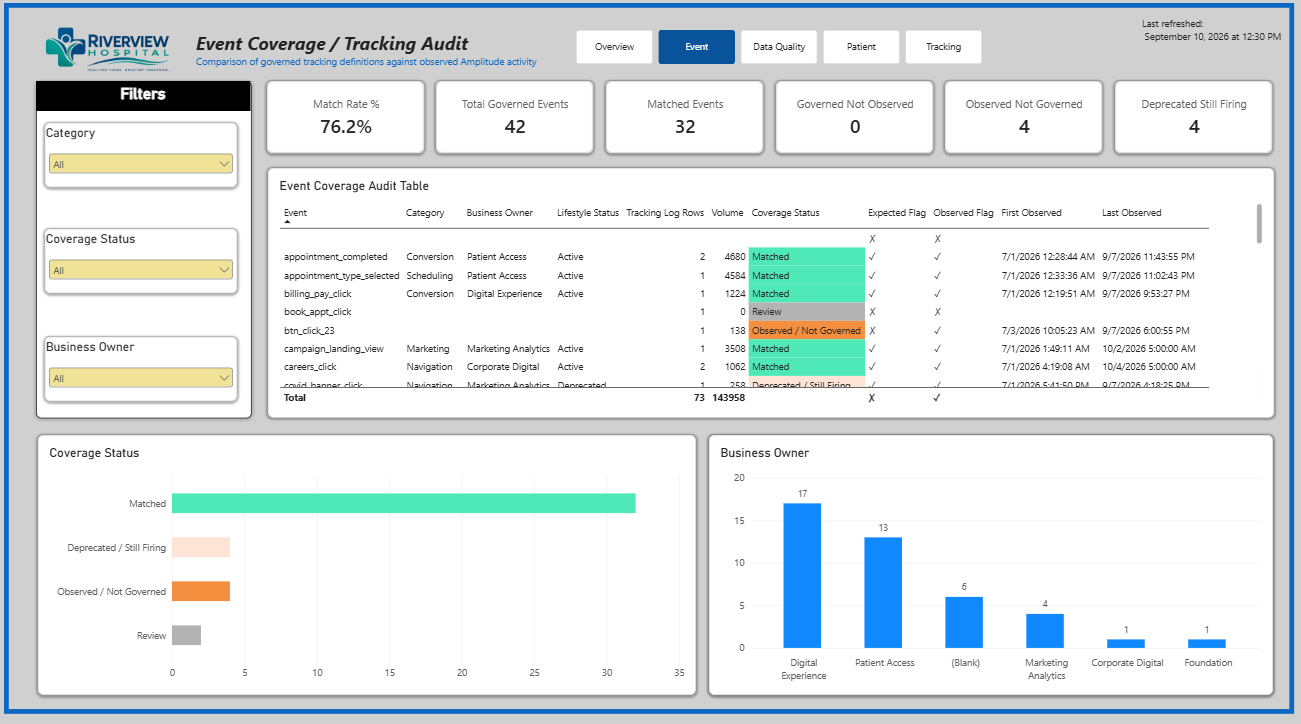

Layout of this report page (visuals, bound fields, positions):
{"tool":"powerbi","page":{"name":"Event","canvas":[1920,1080],"ordinal":1},"visuals":[{"type":"shape","box":[12.1,12.1,1896.7,1045],"z":0},{"type":"textbox","box":[294.4,51.3,502.7,62.8],"z":2000},{"type":"cardVisual","title":"Governed Claim %","fields":{"Data":["reporting vw_EventCoverage.Coverage Match %"]},"box":[398,126,231,106],"z":3000},{"type":"cardVisual","title":"Governed Claim %","fields":{"Data":["reporting vw_EventCoverage.Total Governed Events"]},"box":[647.4,126,231,106],"z":4000},{"type":"cardVisual","title":"Governed Claim %","fields":{"Data":["reporting vw_EventCoverage.Matched Events"]},"box":[896.8,126,231,106],"z":5000},{"type":"cardVisual","title":"Governed Claim %","fields":{"Data":["reporting vw_EventCoverage.Governed Not Observed"]},"box":[1146.2,126,231,106],"z":6000},{"type":"cardVisual","title":"Governed Claim %","fields":{"Data":["reporting vw_EventCoverage.Observed Not Governed"]},"box":[1395.6,126,231,106],"z":7000},{"type":"cardVisual","title":"Governed Claim %","fields":{"Data":["reporting vw_EventCoverage.Deprecated Still Firing"]},"box":[1645,126,231,106],"z":8000},{"type":"clusteredBarChart","title":"Coverage Status","fields":{"Category":["reporting vw_EventCoverage.Coverage_Status"],"Y":["CountNonNull(reporting vw_EventCoverage.Event_Name)"]},"box":[61.2,646.6,967.4,382],"z":9000},{"type":"tableEx","title":"Event Coverage Audit Table","fields":{"Values":["reporting vw_EventCoverage.Event_Name","reporting vw_EventCoverage.Event_Category","reporting vw_EventCoverage.Business_Owner","reporting vw_EventCoverage.Lifecycle_Status","Sum(reporting vw_EventCoverage.Tracking_Log_Rows)","Sum(reporting vw_EventCoverage.Observed_Event_Count)","reporting vw_EventCoverage.Coverage_Status","reporting vw_EventCoverage.Expected Flag","reporting vw_EventCoverage.Observed Flag","reporting vw_EventCoverage.First_Observed","reporting vw_EventCoverage.Last_Observed"]},"box":[399.2,254.8,1478.6,367.1],"z":10000},{"type":"clusteredColumnChart","title":"Business Owner","fields":{"Category":["reporting vw_EventCoverage.Business_Owner"],"Y":["CountNonNull(reporting vw_EventCoverage.Event_Name)"]},"box":[1048.5,646.6,828.5,382],"z":11000},{"type":"image","box":[35,11.7,255,133.3],"z":12000},{"type":"pageNavigator","box":[852.3,51.9,600,50],"z":13000},{"type":"textbox","box":[1684.4,32.7,210.6,61.7],"z":14000},{"type":"slicer","title":"Coverage Status","fields":{"Values":["reporting vw_EventCoverage.Coverage_Status"]},"box":[114.4,186.6,208.4,94.3],"z":16000},{"type":"textbox","box":[58.2,126.4,317,495.5],"z":17000},{"type":"textbox","title":"Filters","box":[59,127,315,44.1],"z":17500},{"type":"slicer","title":"Business Owner","fields":{"Values":["reporting vw_EventCoverage.Business_Owner"]},"box":[72,503,282,94.3],"z":18000},{"type":"slicer","title":"Coverage Status","fields":{"Values":["reporting vw_EventCoverage.Coverage_Status"]},"box":[72.2,344,282,94.3],"z":18001},{"type":"slicer","title":"Category","fields":{"Values":["reporting vw_EventCoverage.Event_Category"]},"box":[72,188,282,94.3],"z":18002}]}

Visuals, with their boxes in screenshot pixels (x1, y1, x2, y2), scaled from the page's 1920x1080 canvas onto the 1301x724 screenshot:
shape: [left=8, top=8, right=1293, bottom=709]
textbox: [left=199, top=34, right=540, bottom=76]
"Governed Claim %" cardVisual: [left=270, top=84, right=426, bottom=156]
"Governed Claim %" cardVisual: [left=439, top=84, right=595, bottom=156]
"Governed Claim %" cardVisual: [left=608, top=84, right=764, bottom=156]
"Governed Claim %" cardVisual: [left=777, top=84, right=933, bottom=156]
"Governed Claim %" cardVisual: [left=946, top=84, right=1102, bottom=156]
"Governed Claim %" cardVisual: [left=1115, top=84, right=1271, bottom=156]
"Coverage Status" clusteredBarChart: [left=41, top=433, right=697, bottom=690]
"Event Coverage Audit Table" tableEx: [left=270, top=171, right=1272, bottom=417]
"Business Owner" clusteredColumnChart: [left=710, top=433, right=1272, bottom=690]
image: [left=24, top=8, right=197, bottom=97]
pageNavigator: [left=578, top=35, right=984, bottom=68]
textbox: [left=1141, top=22, right=1284, bottom=63]
"Coverage Status" slicer: [left=78, top=125, right=219, bottom=188]
textbox: [left=39, top=85, right=254, bottom=417]
"Filters" textbox: [left=40, top=85, right=253, bottom=115]
"Business Owner" slicer: [left=49, top=337, right=240, bottom=400]
"Coverage Status" slicer: [left=49, top=231, right=240, bottom=294]
"Category" slicer: [left=49, top=126, right=240, bottom=189]
